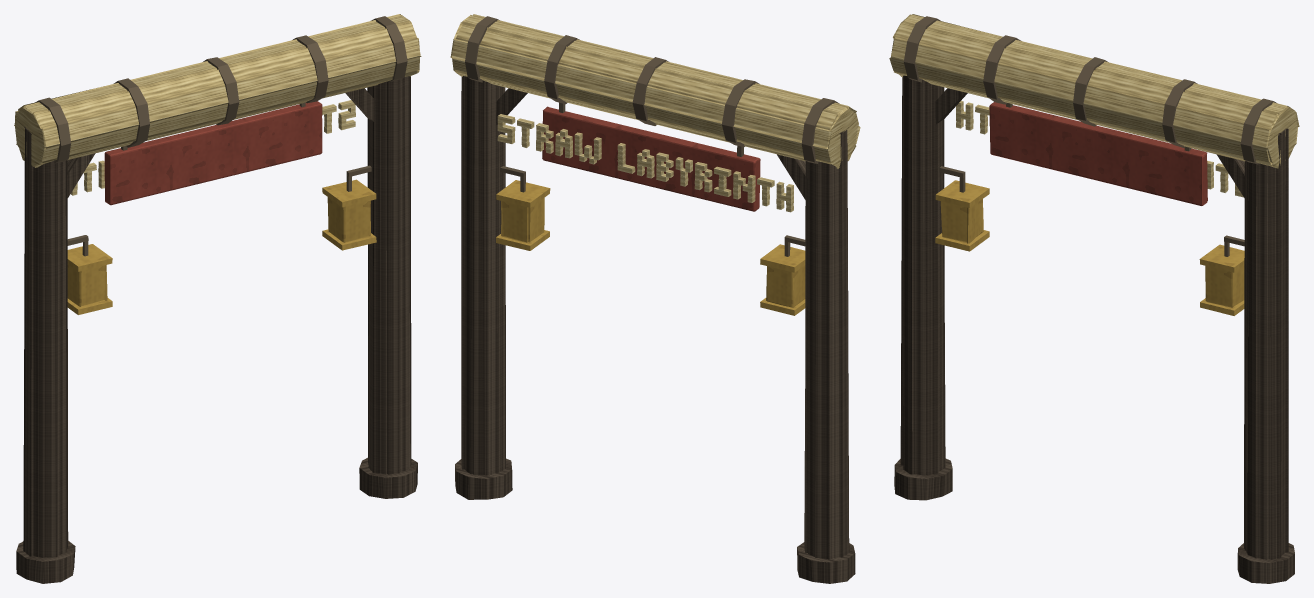
File: labyrinth_arch.glb
3 views of the same model, side by side, from view 1: azimuth 30°, elevation 25°; view 2: azimuth 150°, elevation 25°; view 3: azimuth 330°, elevation 25° (orthographic).
Parts seen in each view (by area): view 1: LabyrinthArch, Lantern_R, Lantern_L; view 2: LabyrinthArch, Lantern_R, Lantern_L; view 3: LabyrinthArch, Lantern_L, Lantern_R.
Part boxes in pixels (x1=…): LabyrinthArch: x1=14, y1=14, x2=421, y2=583; Lantern_R: x1=322, y1=179, x2=376, y2=250; Lantern_L: x1=67, y1=244, x2=112, y2=314; LabyrinthArch: x1=450, y1=14, x2=860, y2=583; Lantern_R: x1=496, y1=180, x2=550, y2=250; Lantern_L: x1=760, y1=244, x2=805, y2=315; LabyrinthArch: x1=889, y1=14, x2=1299, y2=583; Lantern_L: x1=935, y1=180, x2=989, y2=251; Lantern_R: x1=1199, y1=244, x2=1244, y2=315.
Bounding box in the file's own units: 3.21 × 3.66 × 0.4877.
5 materials, 4 textured.
